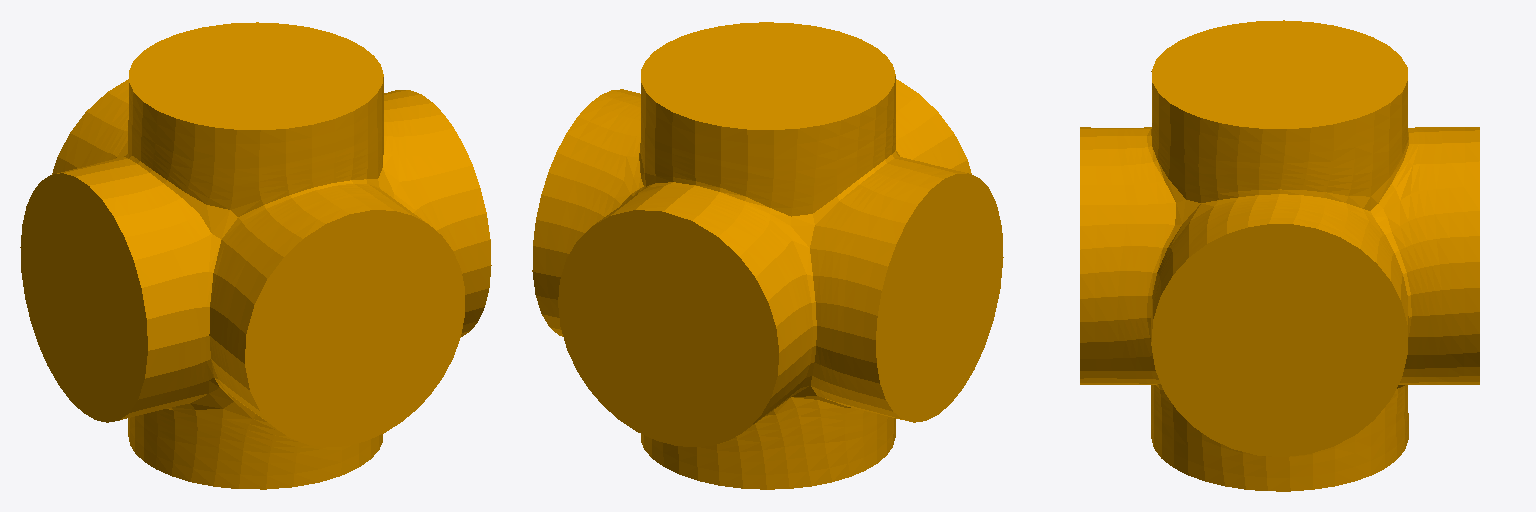
URDF robot description (object):
<robot name="object">
  <link name="object">
    <visual>
      <origin xyz="0 0 0"/>
      <geometry>
        <mesh filename="visual.obj" scale="1 1 1"/>
      </geometry>
    </visual>
    <collision>
      <origin xyz="0 0 0"/>
      <geometry>
        <mesh filename="visual.obj" scale="1 1 1"/>
      </geometry>
    </collision>
    <inertial>
      <mass value="0.05"/>
      <inertia ixx="5.218636628258085e-05" iyy="5.218908333106522e-05" izz="5.2175123610770194e-05" ixy="1.2228612509100177e-08" ixz="-1.3912676523624059e-09" iyz="1.0761740100615418e-08"/>
    </inertial>
  </link>
</robot>

--- What the picture shows (computed from the rendered views, not written in the file) ---
The picture shows the robot from 3 angles, left to right: view 1: azimuth 30°, elevation 25°; view 2: azimuth 150°, elevation 25°; view 3: azimuth 270°, elevation 25°; orthographic projection.
Model object with 1 links and 0 joints (none), rooted at object, posed every joint at zero.
Visible links, largest first — view 1: object; view 2: object; view 3: object.
Link boxes in pixels (x1,y1,x2,y2): object: [20, 22, 491, 489]; object: [532, 22, 1003, 489]; object: [1080, 20, 1479, 491].
Bounding box of the posed robot: 0.096 × 0.096 × 0.096 m (x, y, z).
Meshes: 1 distinct files referenced, 1 mesh visuals loaded (1 OBJ).
